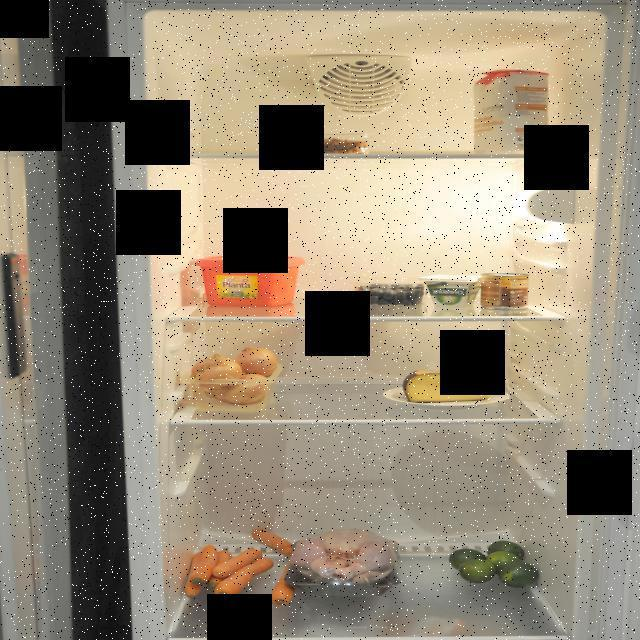Berries strawberries/blueberries: (356, 282, 426, 306)
Butter stick/block: (193, 252, 304, 310)
Carrot: (180, 526, 306, 610)
Cheese: (404, 368, 496, 404), (420, 270, 480, 308)
Chicken: (284, 528, 406, 600)
Corn ear: (480, 272, 530, 312)
Lime: (446, 540, 546, 592)
Onion: (190, 343, 280, 408)
Shrimp: (288, 136, 370, 157)
Sugar: (468, 67, 550, 159)
